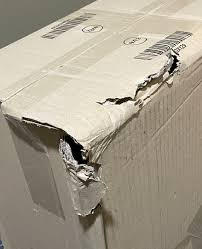damaged package: (25, 111, 116, 223), (89, 42, 187, 111)
